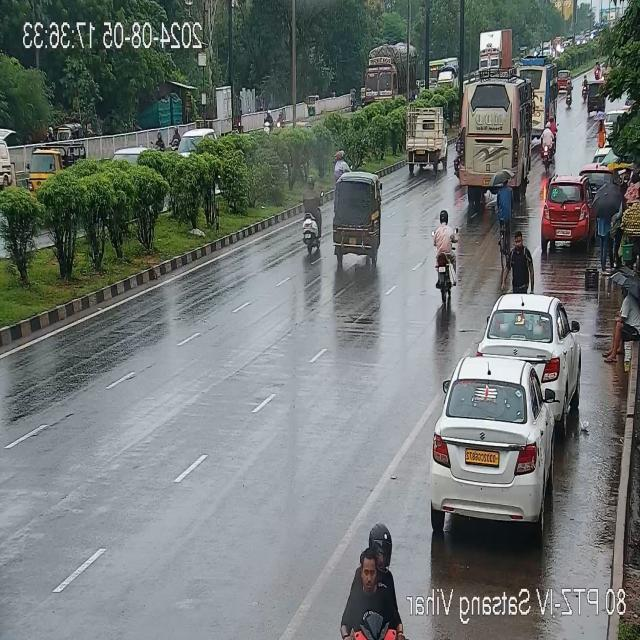2-wheelers: (336, 526, 408, 640), (427, 208, 457, 308), (302, 175, 321, 257), (540, 120, 554, 172), (262, 106, 272, 138), (170, 124, 180, 154), (151, 130, 165, 151), (580, 74, 588, 106), (564, 82, 573, 110), (594, 60, 600, 80)
auto: (330, 170, 382, 264), (24, 140, 86, 189)
bus: (456, 69, 532, 207), (516, 55, 558, 145)
car: (431, 356, 558, 531), (484, 293, 580, 405), (542, 182, 594, 248)
pedestrian: (600, 279, 640, 366), (596, 174, 622, 273), (504, 228, 532, 297), (594, 110, 604, 148)
truck: (360, 35, 414, 109), (402, 108, 448, 169), (476, 26, 514, 74)
